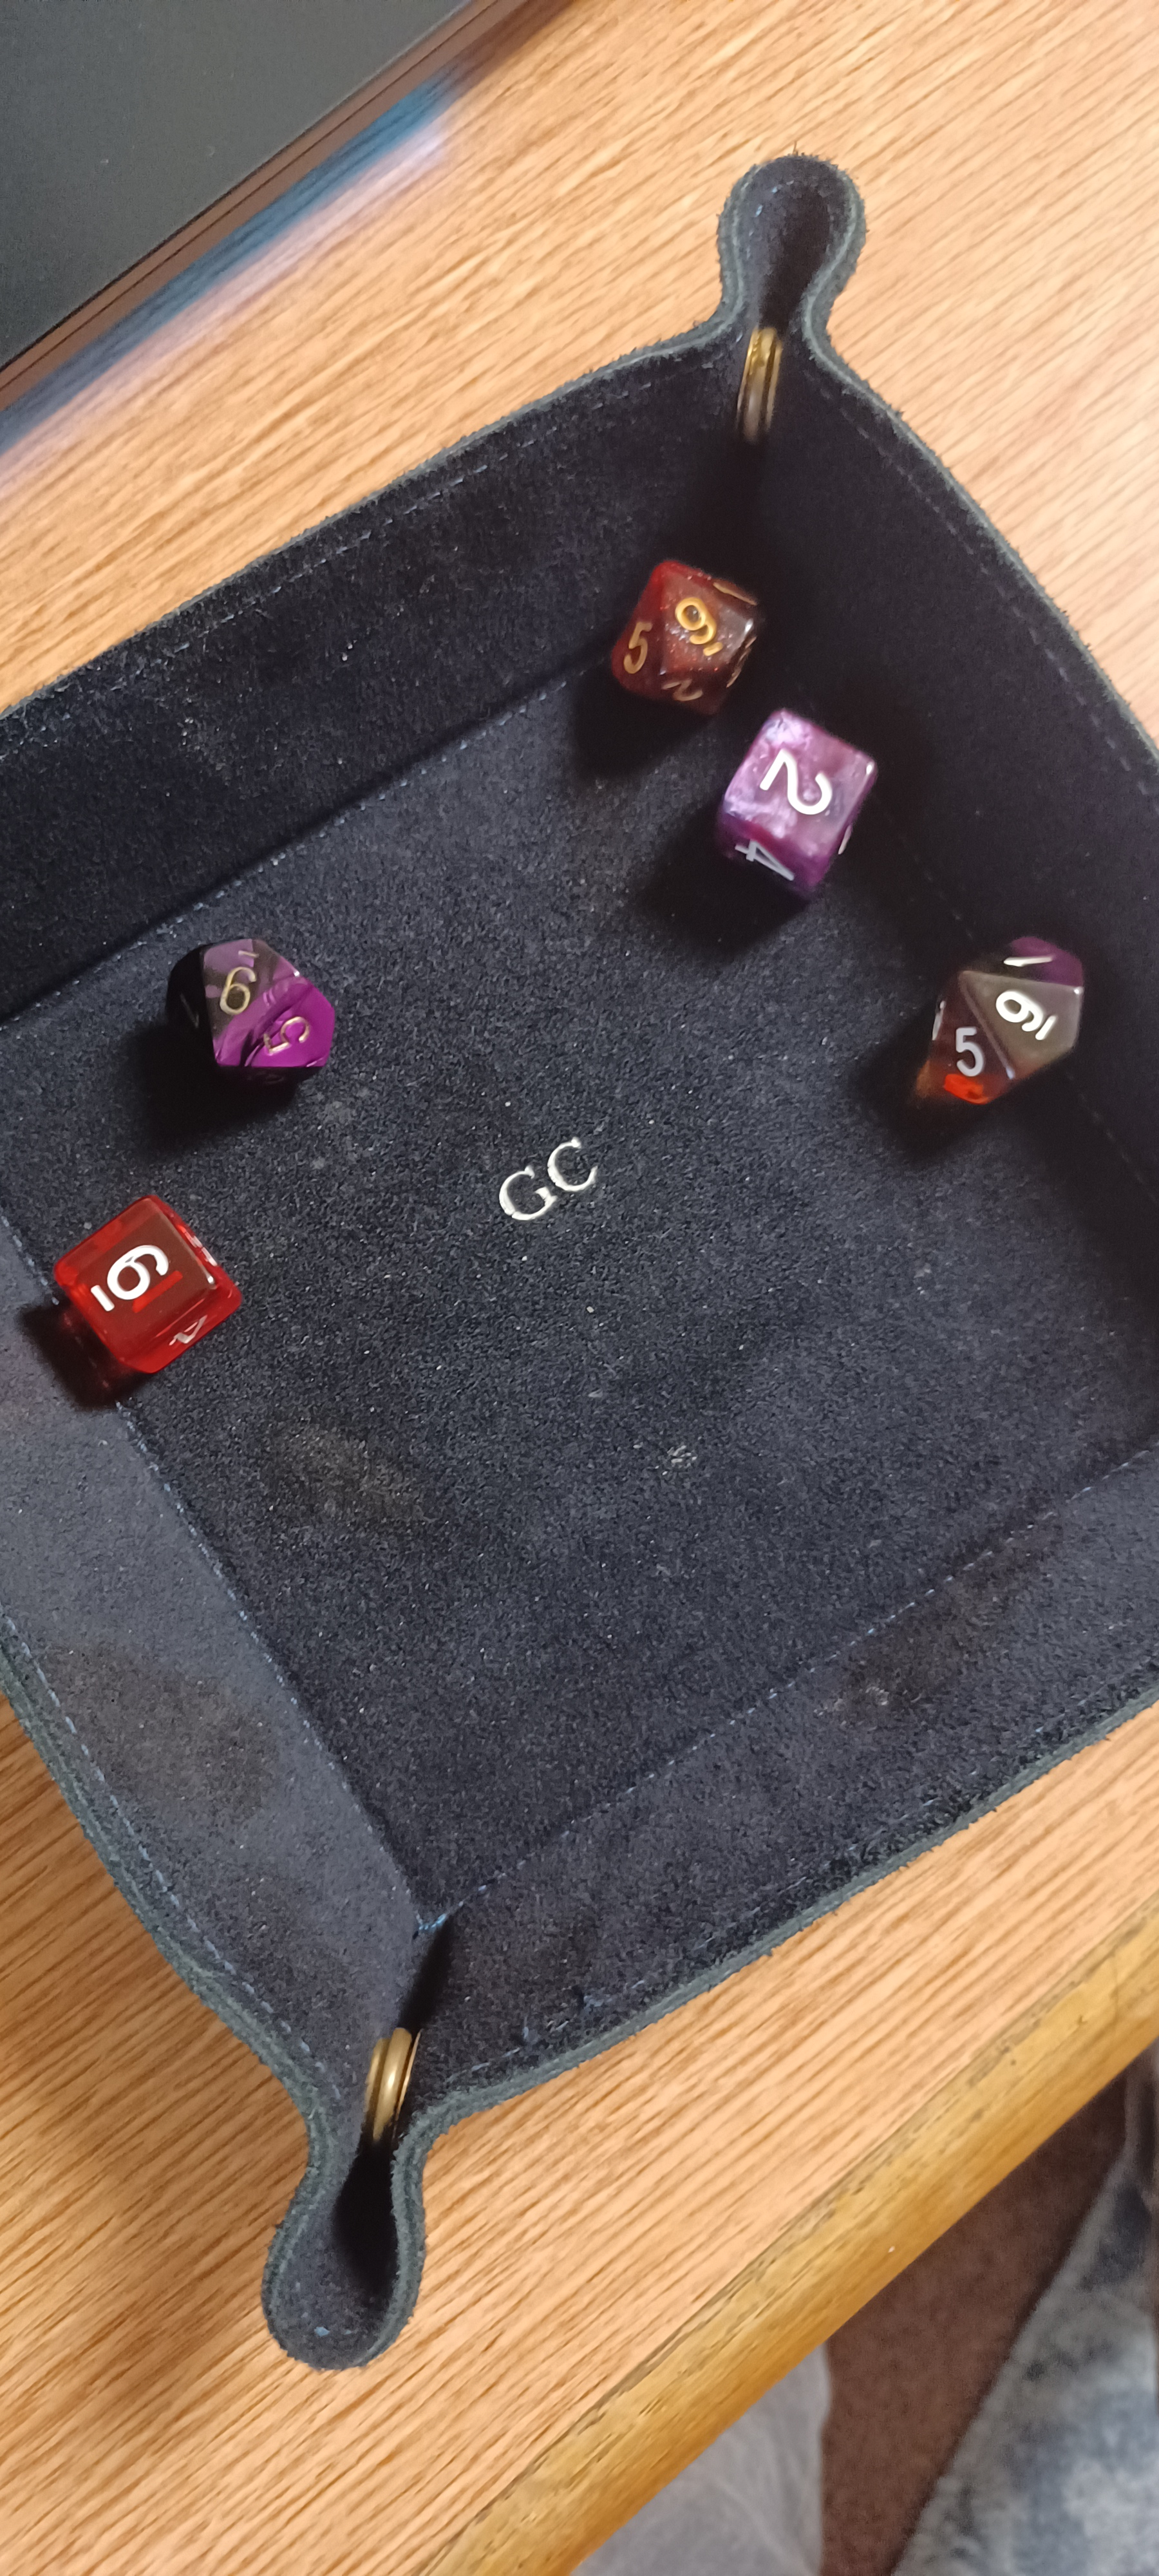nine: (135, 895, 368, 1111), (891, 910, 1115, 1134), (575, 534, 791, 724)
six: (15, 1166, 264, 1396)
two: (688, 683, 896, 943)
